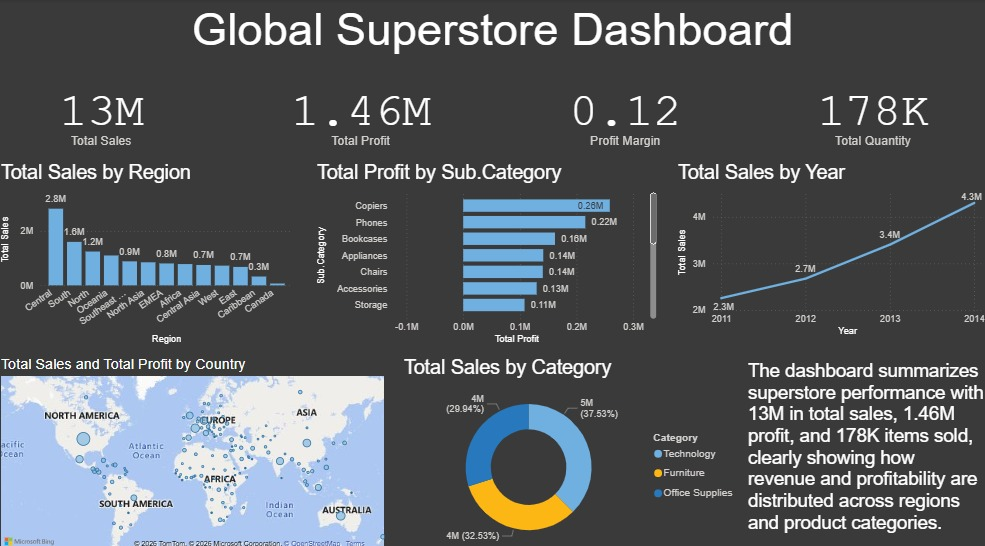

This screenshot's page, from the dashboard's own definition file:
{"tool":"powerbi","page":{"name":"Dashboard","canvas":[1280,720],"ordinal":0},"visuals":[{"type":"card","fields":{"Values":["superstore.Total Sales"]},"box":[0,94,268.9,102.7],"z":0},{"type":"card","fields":{"Values":["superstore.Total Profit"]},"box":[329.6,94,280.5,102.7],"z":1000},{"type":"card","fields":{"Values":["superstore.Total Quantity"]},"box":[980.2,94,299.3,102.7],"z":2000},{"type":"card","fields":{"Values":["superstore.Profit Margin"]},"box":[669.4,94,281.9,102.7],"z":3000},{"type":"clusteredColumnChart","fields":{"Category":["superstore.Region"],"Y":["superstore.Total Sales"]},"box":[0,209.6,386,241.4],"z":4000},{"type":"donutChart","fields":{"Category":["superstore.Category"],"Y":["superstore.Total Sales"]},"box":[520.5,461.2,443.9,258.8],"z":5000},{"type":"barChart","fields":{"Category":["superstore.Sub.Category"],"Y":["superstore.Total Profit"]},"box":[407.7,209.6,448.2,241.4],"z":6000},{"type":"lineChart","fields":{"Category":["superstore.Order.Date.Variation.Date Hierarchy.Year","superstore.Order.Date.Variation.Date Hierarchy.Quarter","superstore.Order.Date.Variation.Date Hierarchy.Month","superstore.Order.Date.Variation.Date Hierarchy.Day"],"Y":["superstore.Total Sales"]},"box":[873.3,209.6,406.3,231.3],"z":7000},{"type":"map","fields":{"Category":["superstore.Country"],"Size":["superstore.Total Sales"]},"box":[0,461.2,504.6,258.8],"z":8000},{"type":"textbox","box":[0,0,1279.5,78.1],"z":9000},{"type":"textbox","box":[964,461,315,259],"z":10000}]}

Visuals, with their boxes in screenshot pixels (x1, y1, x2, y2), scaled from the page's 1280x720 canvas onto the 985x546 screenshot:
card - superstore.Total Sales: <bbox>0, 71, 207, 149</bbox>
card - superstore.Total Profit: <bbox>254, 71, 469, 149</bbox>
card - superstore.Total Quantity: <bbox>754, 71, 984, 149</bbox>
card - superstore.Profit Margin: <bbox>515, 71, 732, 149</bbox>
clusteredColumnChart - superstore.Region x superstore.Total Sales: <bbox>0, 159, 297, 342</bbox>
donutChart - superstore.Category x superstore.Total Sales: <bbox>401, 350, 742, 545</bbox>
barChart - superstore.Sub.Category x superstore.Total Profit: <bbox>314, 159, 659, 342</bbox>
lineChart - superstore.Order.Date.Variation.Date Hierarchy.Year x superstore.Order.Date.Variation.Date Hierarchy.Quarter: <bbox>672, 159, 984, 334</bbox>
map - superstore.Country x superstore.Total Sales: <bbox>0, 350, 388, 545</bbox>
textbox: <bbox>0, 0, 984, 59</bbox>
textbox: <bbox>742, 350, 984, 545</bbox>
